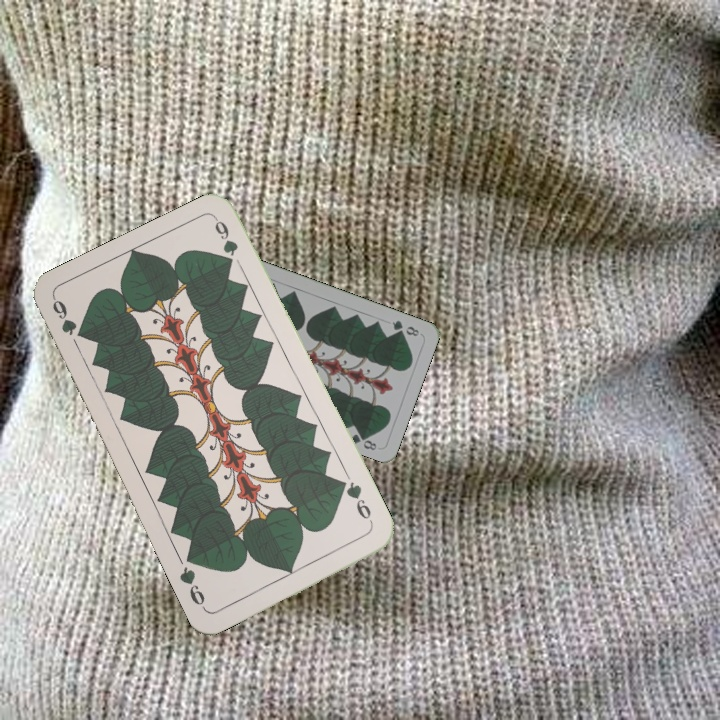G8: (388, 316, 422, 339)
G9: (338, 477, 376, 529), (48, 295, 88, 342)
